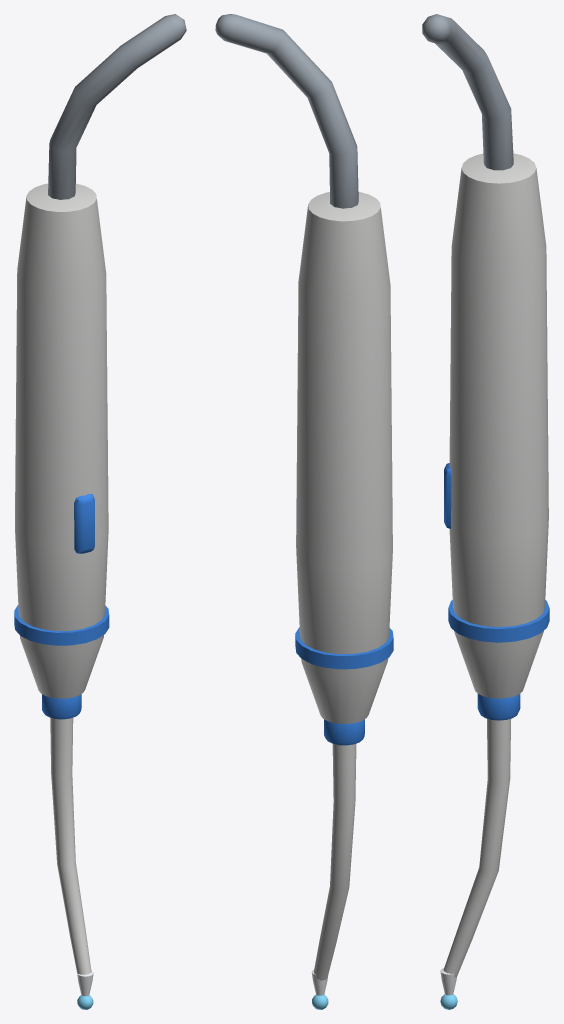
Rendered from tool_waterflosser.glb.
The picture shows the model from 3 angles, left to right: view 1: azimuth 30°, elevation 25°; view 2: azimuth 210°, elevation 25°; view 3: azimuth 270°, elevation 25°; orthographic projection. The views are drawn at different scales.
Visible parts, largest first — view 1: tool_waterflosser; view 2: tool_waterflosser; view 3: tool_waterflosser.
Boxes of the visible parts, x1,y1,x2,y2 form: tool_waterflosser: (14,14,186,1009); tool_waterflosser: (215,14,393,1009); tool_waterflosser: (422,14,549,1009).
Size of the model in its own units: 1.32 by 9.15 by 1.02.
